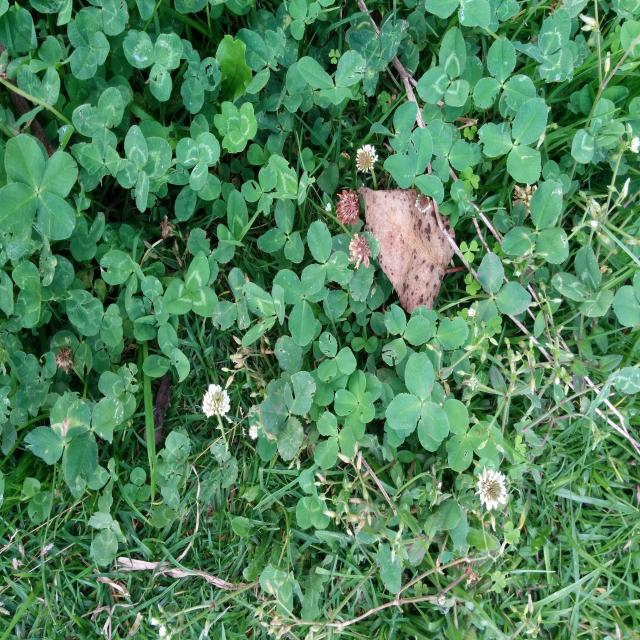Four Leaf Clover: (1, 135, 77, 240), (116, 126, 172, 213), (334, 369, 375, 440)
